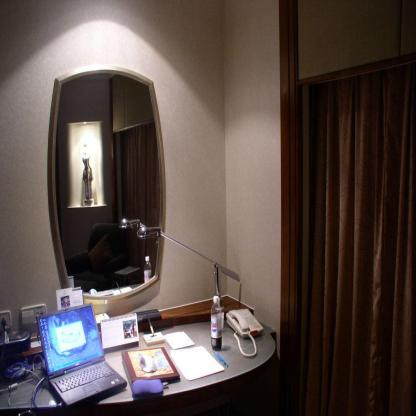board: (36, 303, 121, 408), (211, 294, 222, 350)
